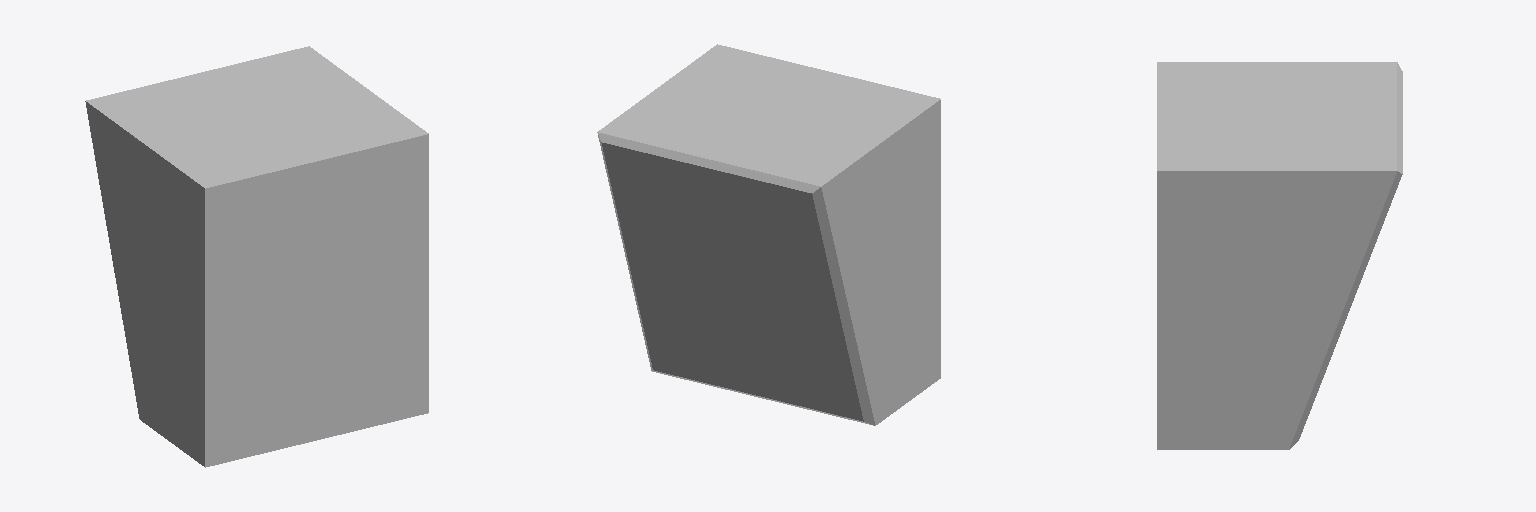
Rendered from mattone_rotto_metà_1.obj.
The picture shows the model from 3 angles: view 1: azimuth 30°, elevation 25°; view 2: azimuth 150°, elevation 25°; view 3: azimuth 270°, elevation 25°; orthographic projection.
Visible parts, largest first — view 1: Box001; view 2: Box001; view 3: Box001.
Part boxes in pixels (bbox=[...]): Box001: bbox=[85, 46, 428, 467]; Box001: bbox=[597, 44, 940, 425]; Box001: bbox=[1157, 62, 1402, 449].
Size of the model in its own units: 0.3378 by 0.4021 by 0.3202.